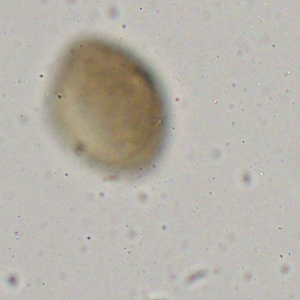Fasciola_hepatica_egg: (50, 36, 169, 172)
